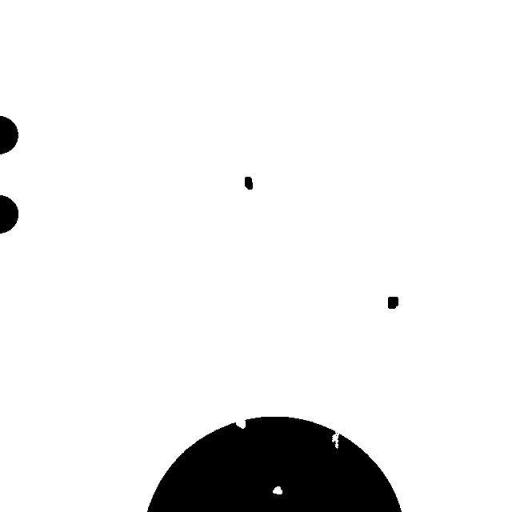copper: (382, 290, 404, 314), (238, 170, 258, 196)
mousebite: (325, 422, 347, 455), (230, 412, 250, 434)
pin-hole: (266, 480, 288, 500)
